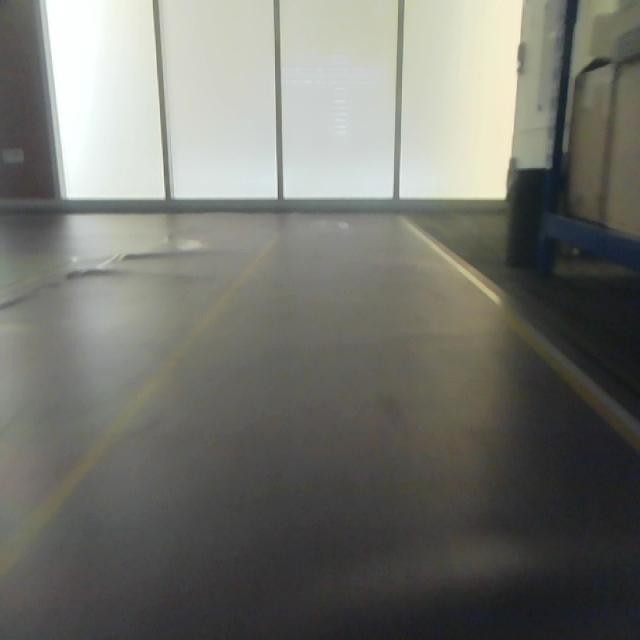left_lane: (0, 229, 282, 583)
right_lane: (403, 220, 639, 451)
